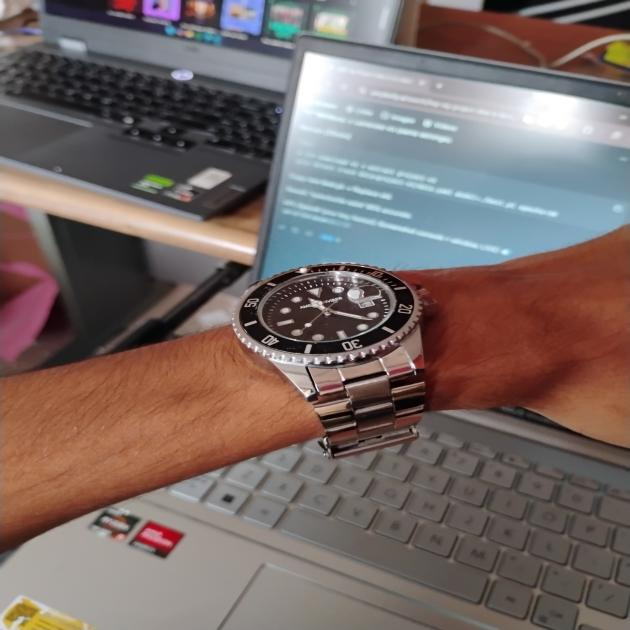laptop: (19, 3, 412, 221)
wristwatch: (218, 249, 463, 461)
